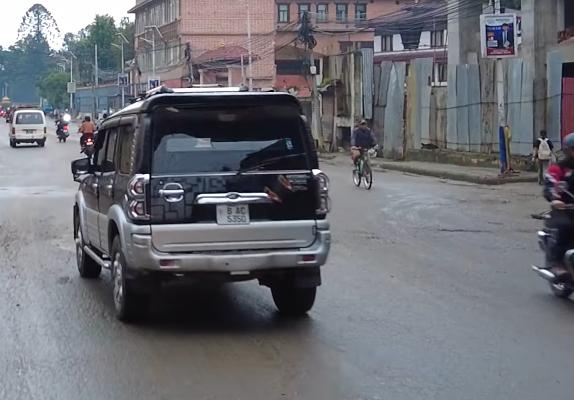SUV: (63, 76, 345, 336)
van: (7, 104, 49, 148)
